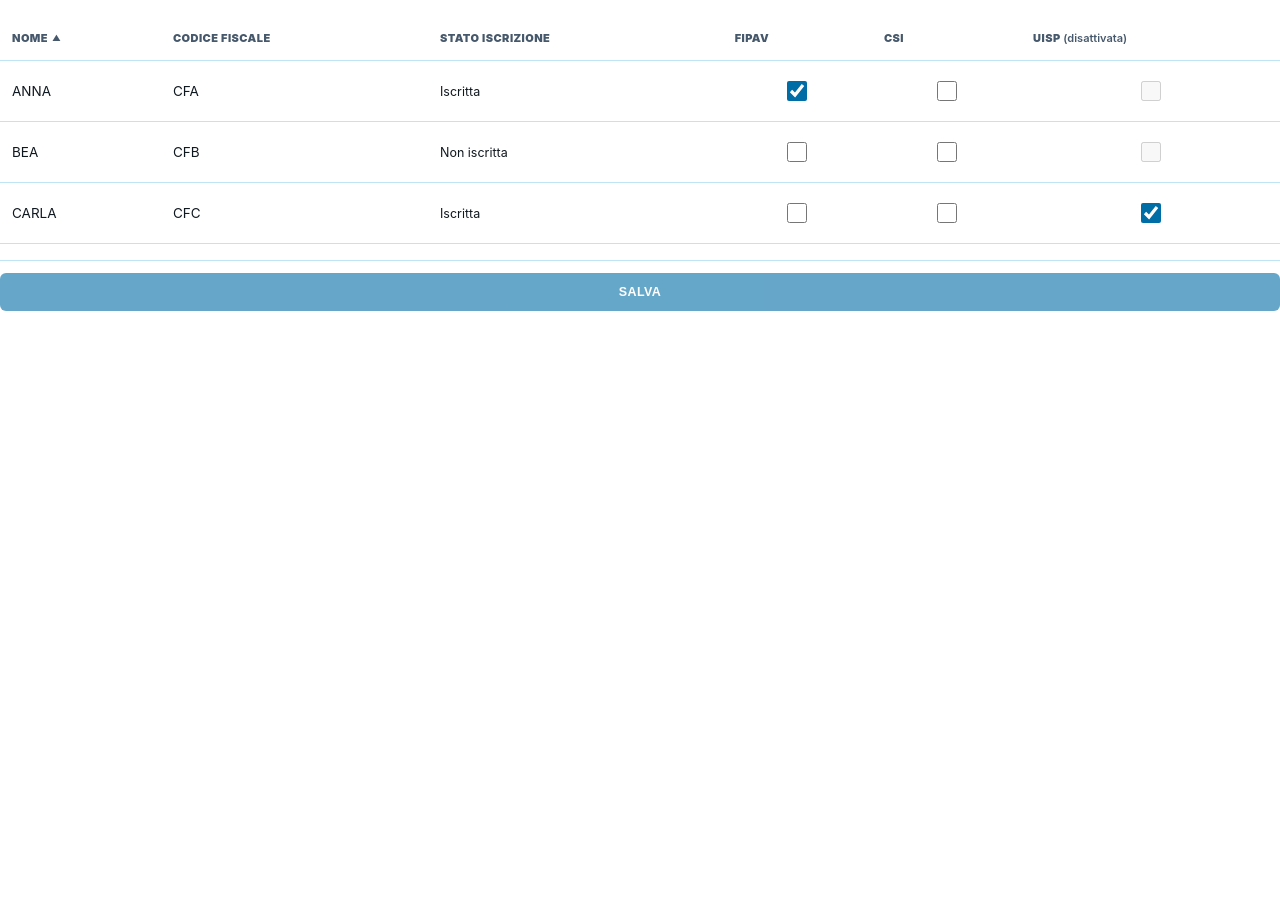
Test case: ConfermaTesseramentiForm › svuotare una riga tesserata chiede conferma prima di inviare
The width and height of the screenshot is (1280, 900).
Click the checkbox named "ANNA: FIPAV" at {"x": 797, "y": 91}, box x1=787 y1=81 x2=807 y2=101
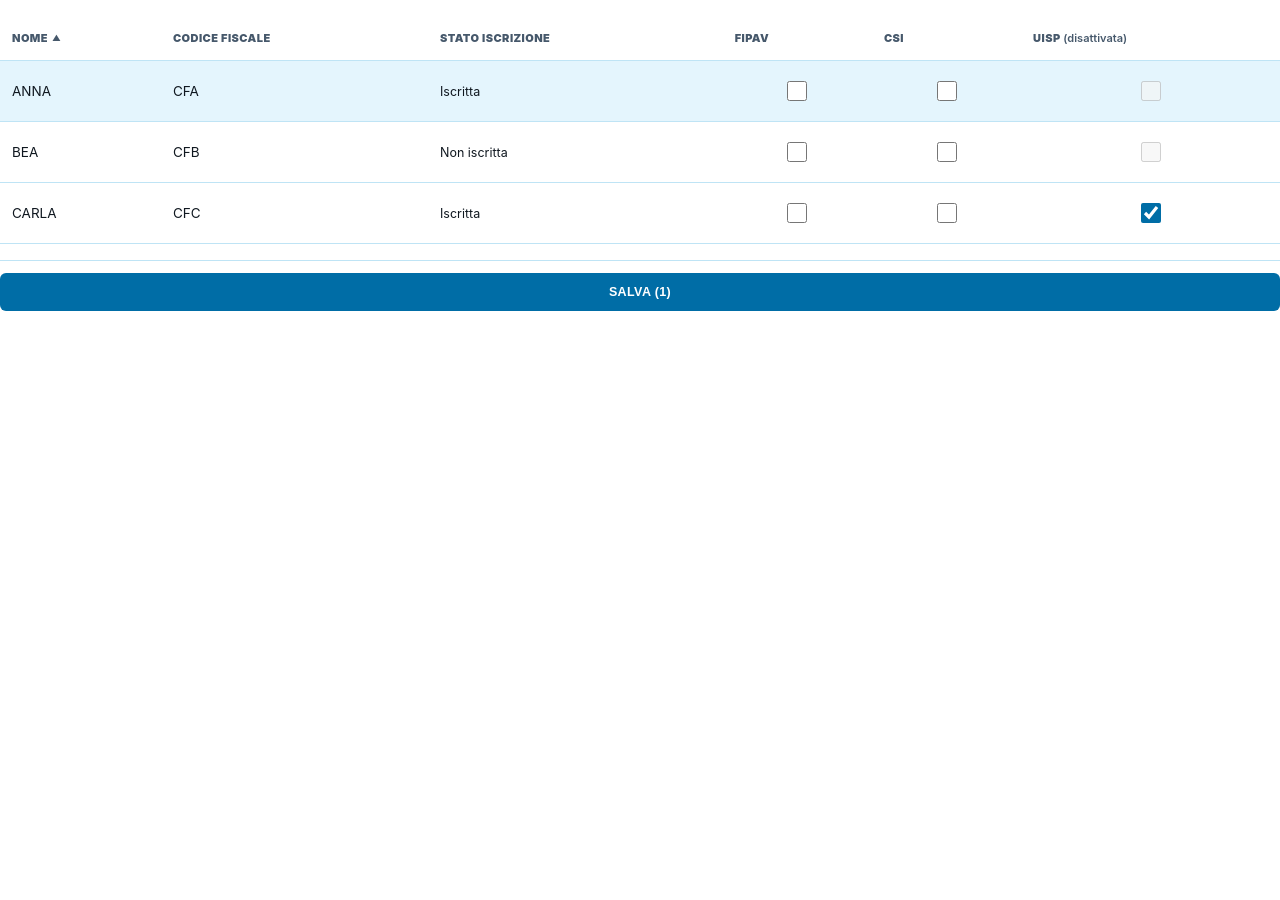
Click the button "Salva (1)" at {"x": 640, "y": 292}, box x1=0 y1=273 x2=1279 y2=311
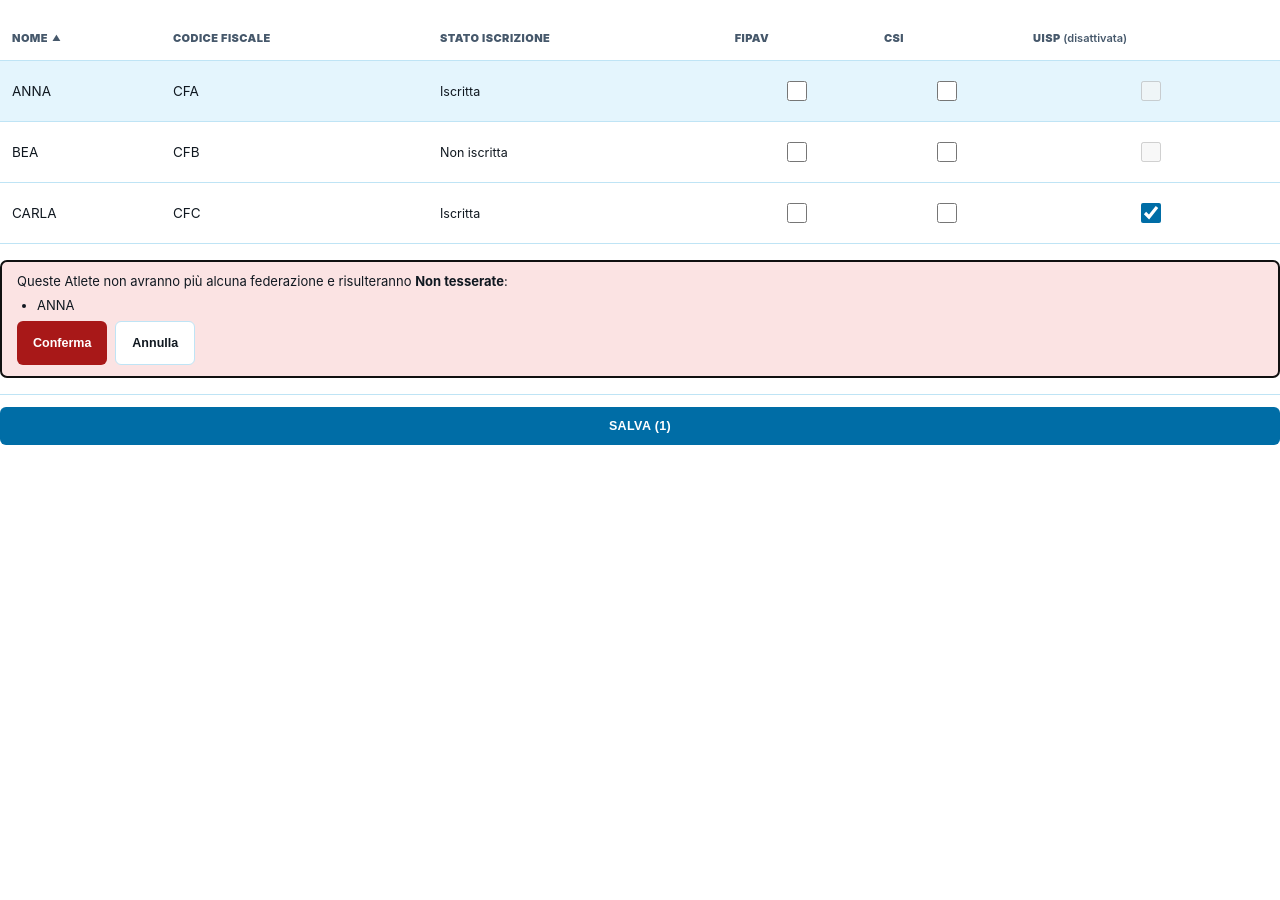
Check: the dialog shows "ANNA", box x1=37 y1=297 x2=74 y2=313
Check: the dialog named "confermaRimozioneTotale" is shown, box x1=0 y1=260 x2=1279 y2=378
